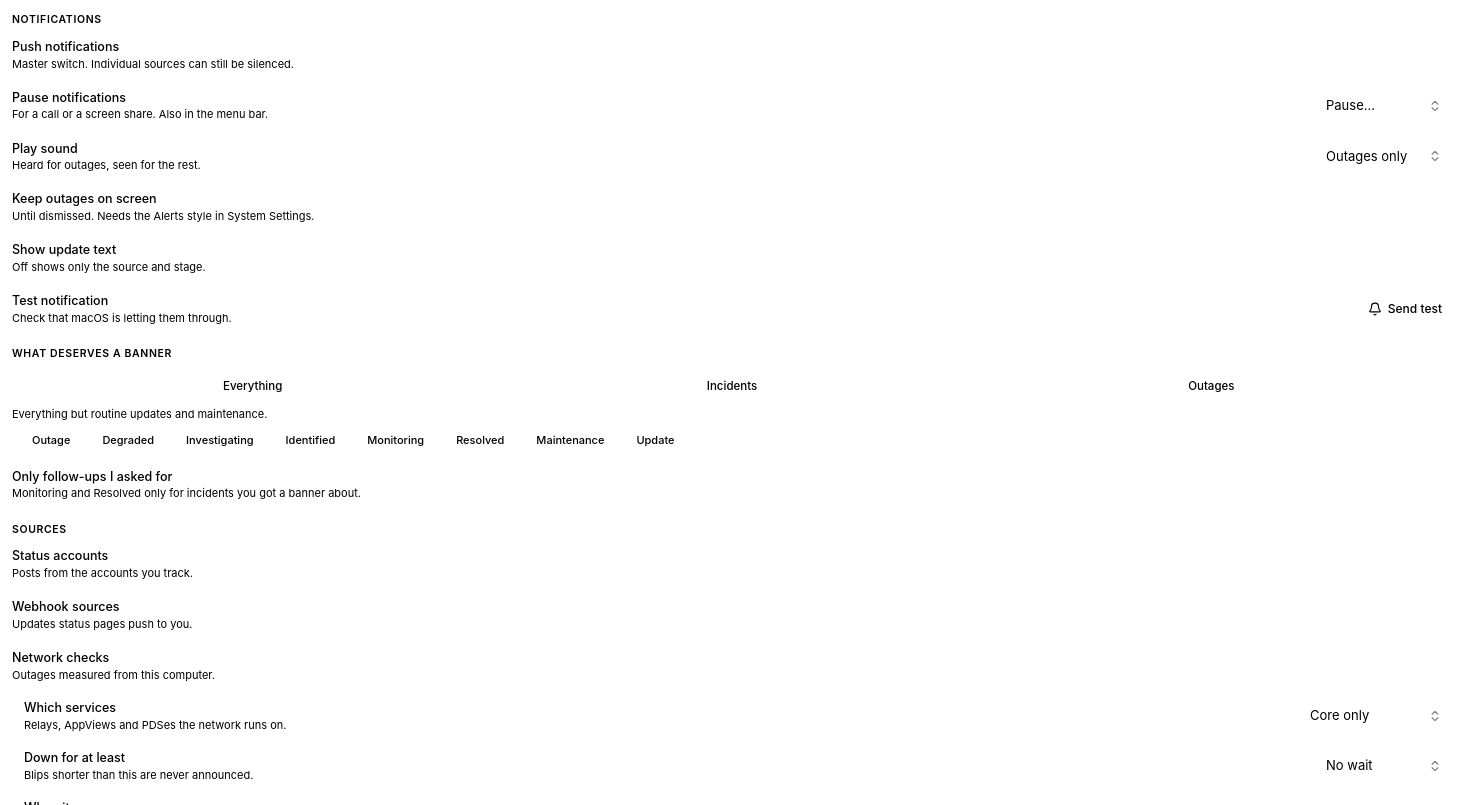
it: the test notification › reports the reason when the system refuses the notification
This screenshot has width=1464, height=805.
What coordinates should you click on to do the following:
click the button "Send test"
I would click on:
 (1405, 309)
Its box is [1358,295,1452,323].
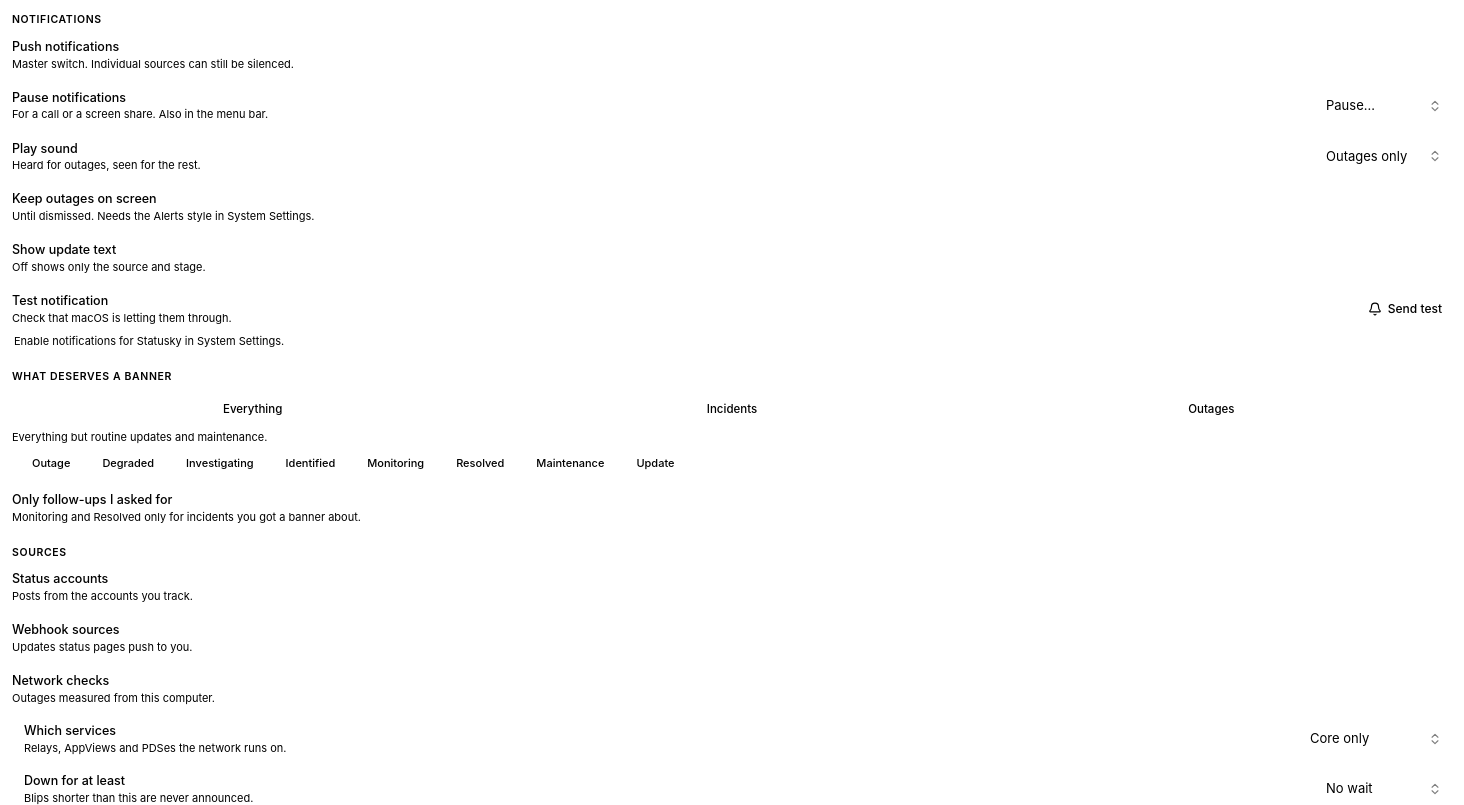
Check: the message reads "Enable notifications for Statusky in System Settings.", box [14,334,284,348]
